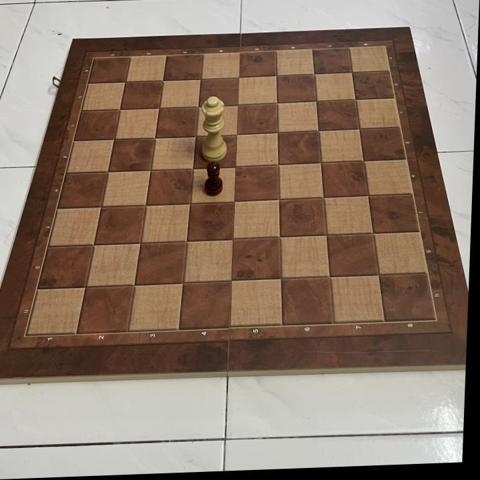xcorner: (305, 64, 322, 81), (267, 66, 284, 83), (229, 67, 246, 84), (192, 69, 209, 86), (154, 71, 171, 88), (116, 72, 133, 89), (346, 90, 363, 107), (307, 92, 324, 109), (268, 93, 285, 110), (229, 95, 246, 112), (190, 97, 207, 114), (150, 98, 167, 115), (111, 100, 128, 117), (350, 120, 367, 137), (309, 121, 326, 138), (269, 123, 286, 140), (228, 125, 245, 142), (187, 126, 204, 143), (146, 128, 163, 145), (106, 130, 123, 147), (354, 152, 371, 169), (312, 154, 329, 171), (269, 155, 286, 172), (227, 157, 244, 174), (185, 159, 202, 176), (142, 160, 159, 177), (100, 162, 117, 179), (359, 187, 376, 204), (315, 188, 332, 205), (270, 190, 287, 207), (226, 192, 243, 209), (182, 194, 199, 211), (138, 196, 155, 213), (364, 225, 381, 242), (318, 227, 335, 244), (271, 228, 288, 245), (225, 230, 242, 247), (179, 232, 196, 249), (133, 234, 150, 251), (86, 236, 103, 253), (369, 266, 386, 283), (321, 268, 338, 285), (272, 270, 289, 287), (224, 272, 241, 289), (175, 274, 192, 291), (127, 276, 144, 293), (79, 278, 96, 295), (343, 63, 359, 80), (93, 198, 110, 214)
